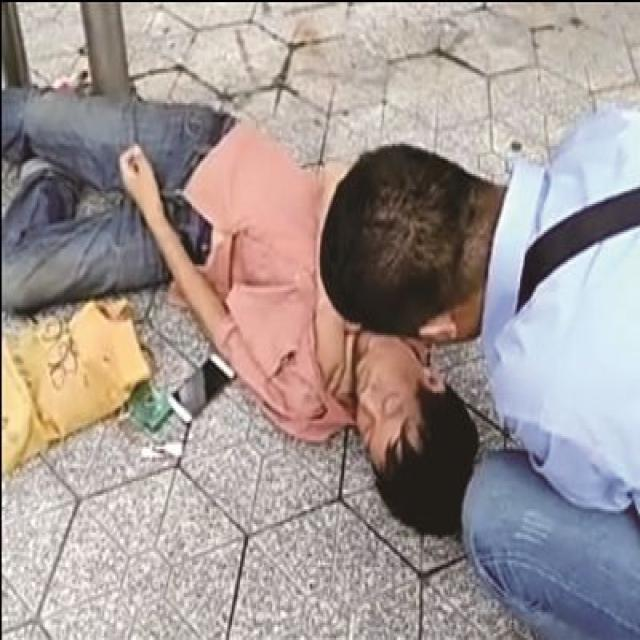Fall: (0, 77, 511, 567)
